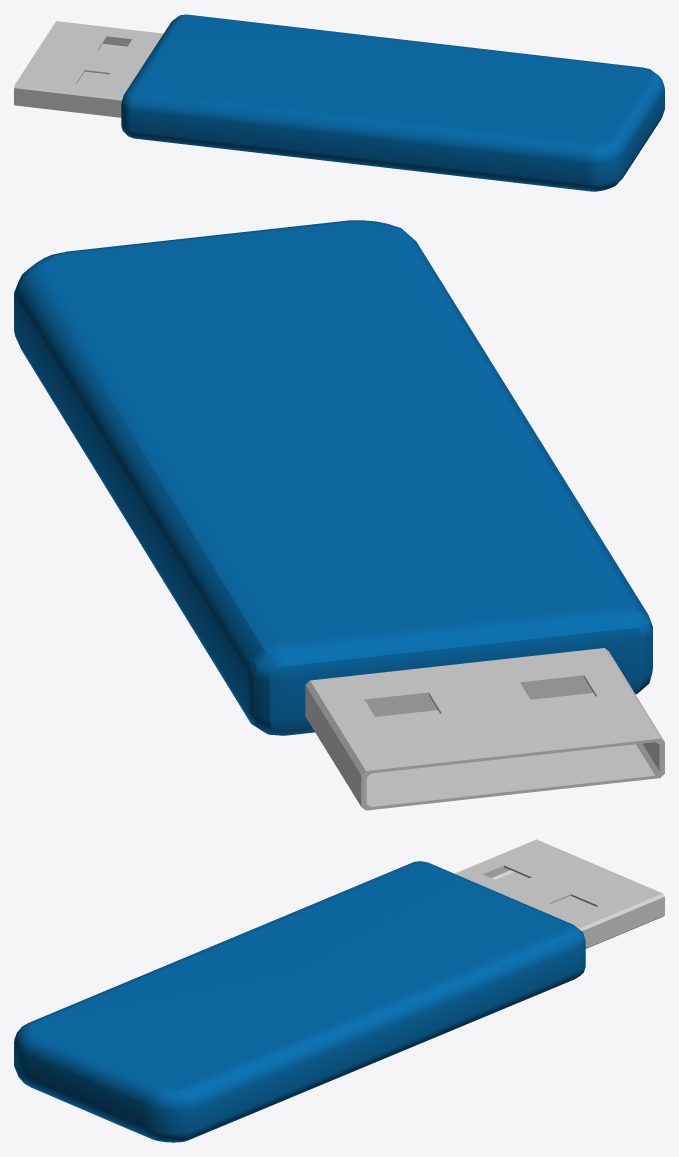
The model's file is USB.fbx.
3 views of the same model, one above another, from view 1: azimuth 30°, elevation 25°; view 2: azimuth 150°, elevation 25°; view 3: azimuth 270°, elevation 25° (orthographic). The views are drawn at different scales.
Parts seen in each view (by area): view 1: USB; view 2: USB; view 3: USB.
Boxes of the visible parts, x1=… form: USB: x1=14, y1=14, x2=664, y2=191; USB: x1=14, y1=220, x2=664, y2=810; USB: x1=14, y1=839, x2=664, y2=1142.
Bounding box in the file's own units: 0.3645 × 0.0332 × 0.367.
